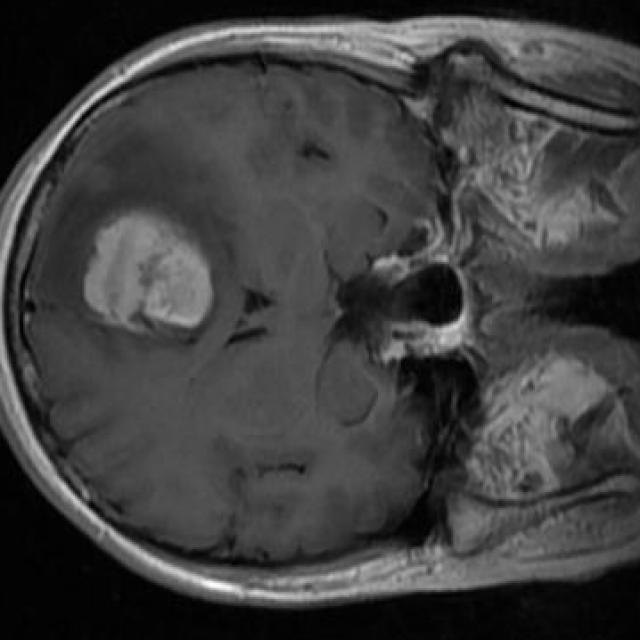meningioma: (84, 216, 214, 328)
